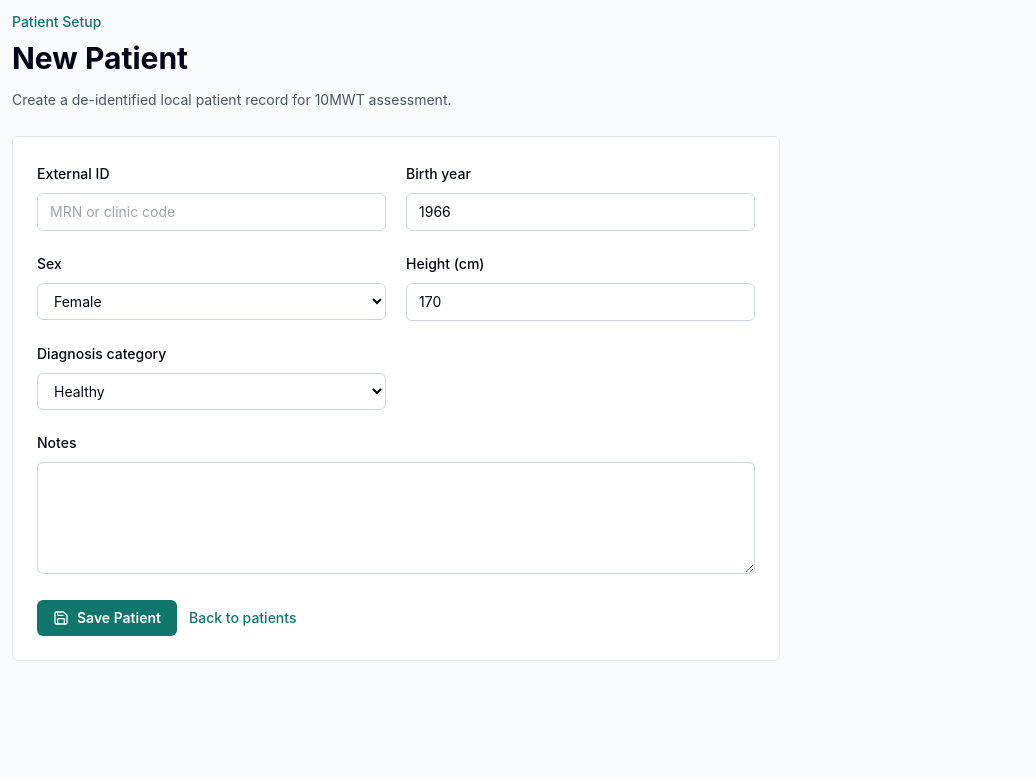
Test: NewPatientPage › validates patient form fields before submit
Replace the text in the number field labelled "Birth year" with "2500" at (580, 212), box top-left (406, 193), bottom-right (755, 231)
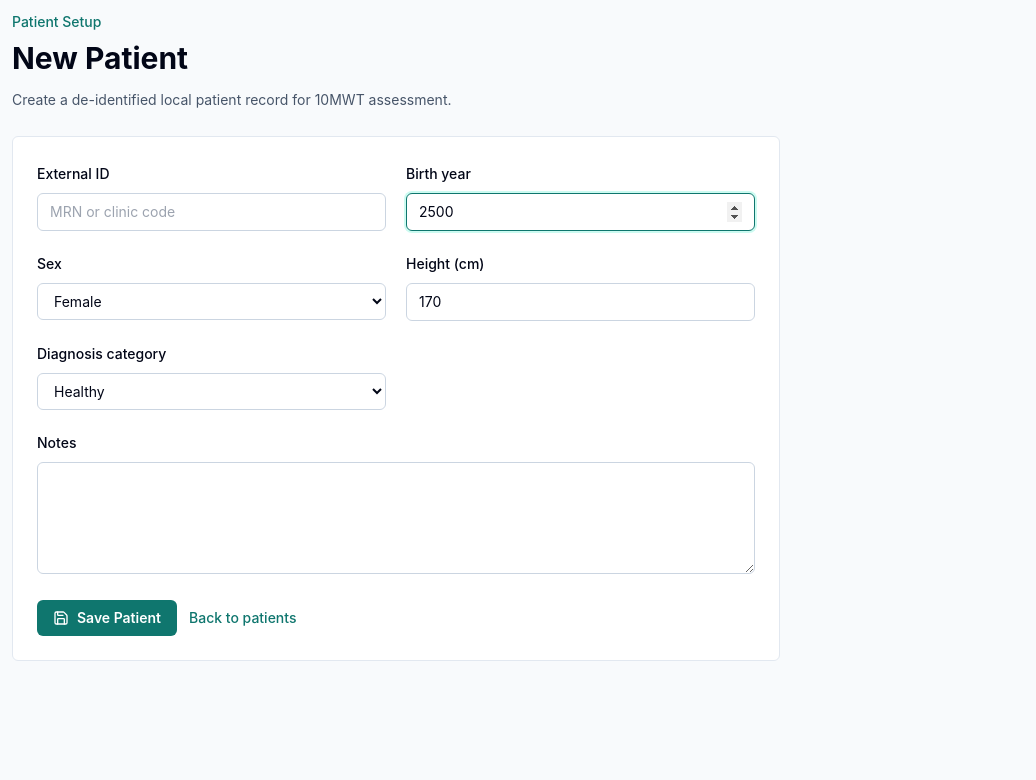
Replace the text in the number field labelled "Height (cm)" with "40" at (580, 302), box top-left (406, 283), bottom-right (755, 321)
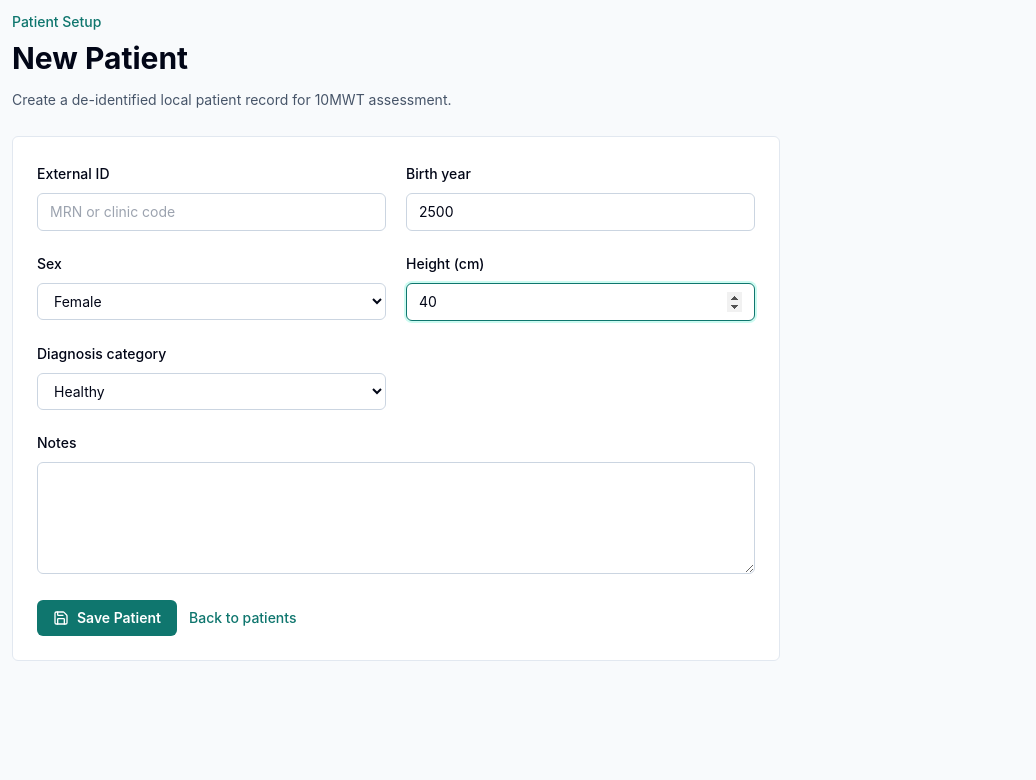
Click the button "Save Patient" at (107, 618), box top-left (37, 600), bottom-right (177, 636)
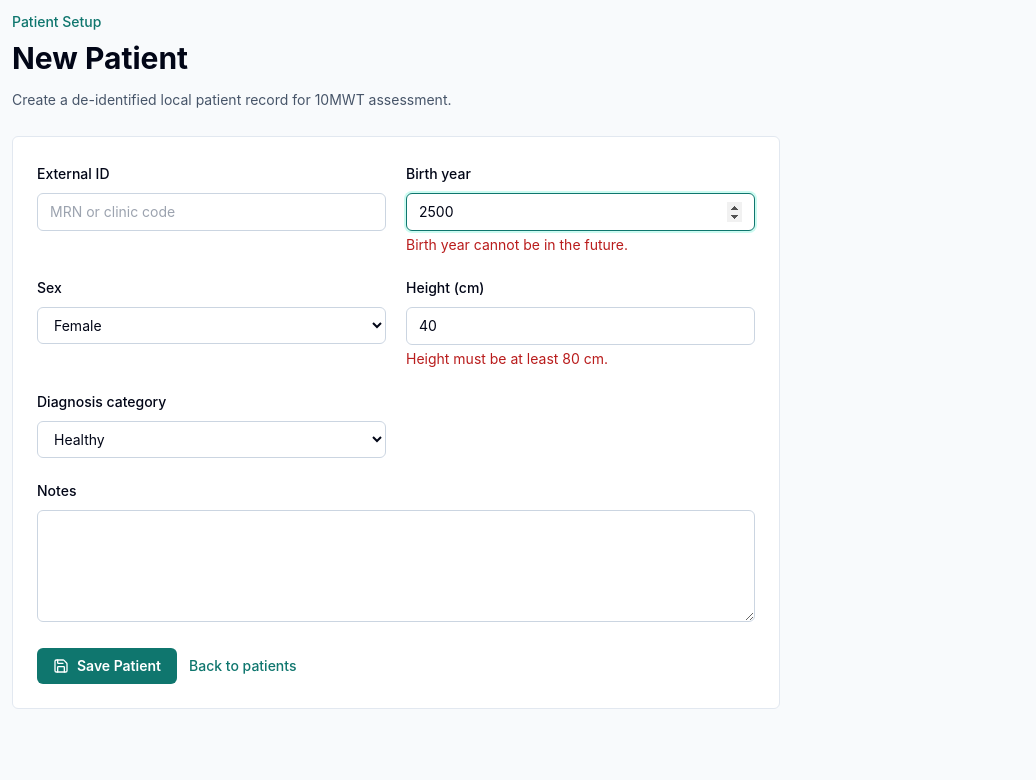
Expected: the text "Birth year cannot be in the future." is shown, top-left (406, 236), bottom-right (628, 253)
Expected: the text "Height must be at least 80 cm." is shown, top-left (406, 350), bottom-right (608, 367)
